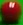red: (0, 0, 23, 25)
